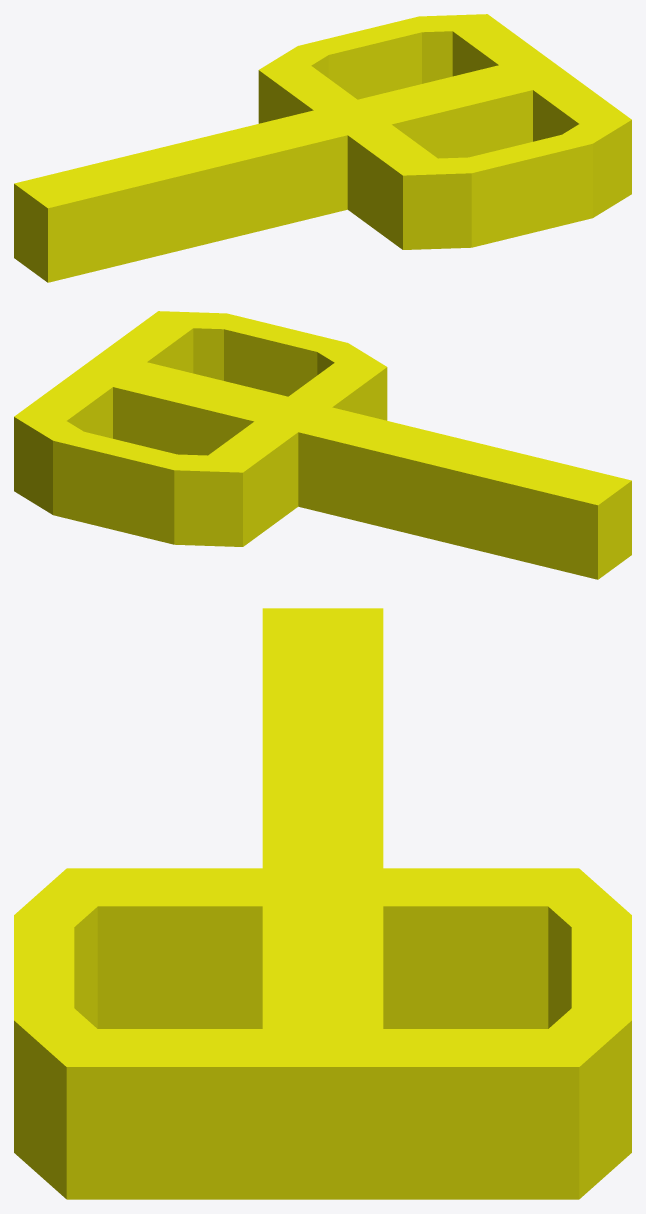
Rendered from toyKey.fbx.
3 renders of one model, top to bottom at view 1: azimuth 30°, elevation 25°; view 2: azimuth 150°, elevation 25°; view 3: azimuth 270°, elevation 25°, orthographic. The views are drawn at different scales.
Visible parts, largest first — view 1: carToyKey; view 2: carToyKey; view 3: carToyKey.
Boxes of the visible parts, x1,y1,x2,y2 form: carToyKey: (14,14,631,282); carToyKey: (14,311,631,579); carToyKey: (14,608,631,1199).
Bounding box in the file's own units: 78.46 × 10.56 × 44.68.
